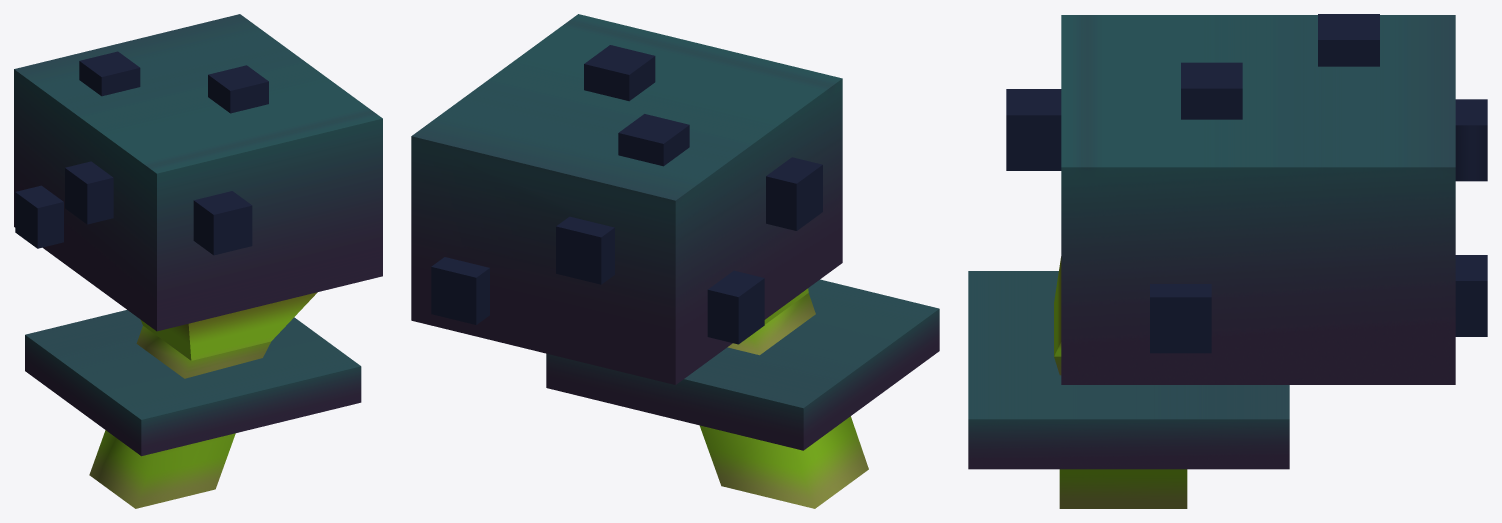
Rendered from junglebush.fbx.
3 views of the same model, side by side, from view 1: azimuth 30°, elevation 25°; view 2: azimuth 150°, elevation 25°; view 3: azimuth 270°, elevation 25° (orthographic). The views are drawn at different scales.
Parts seen in each view (by area): view 1: junglebush; view 2: junglebush; view 3: junglebush.
Boxes of the visible parts, x1,y1,x2,y2 form: junglebush: (14, 14, 382, 508); junglebush: (411, 14, 939, 508); junglebush: (968, 14, 1487, 508).
Size of the model in its own units: 3.69 by 4.2 by 4.07.
